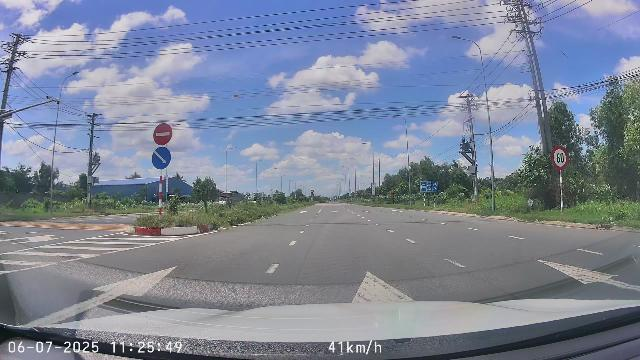102-cam-di-nguoc-chieu: (153, 123, 172, 145)
127-toc-do-toi-da-60: (551, 145, 569, 170)
302a-huong-phai-di-vong-chuong-ngai-vat-1: (151, 147, 171, 169)
